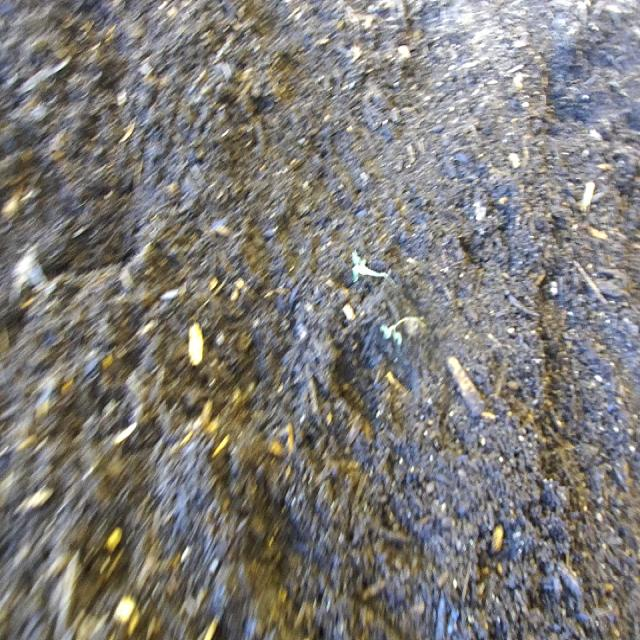Unhealthy: (378, 307, 431, 352)
